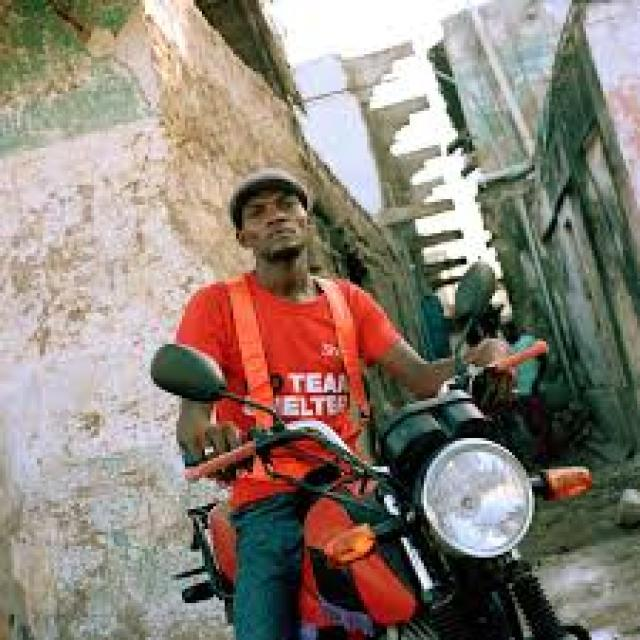bodaboda: (85, 259, 632, 640)
